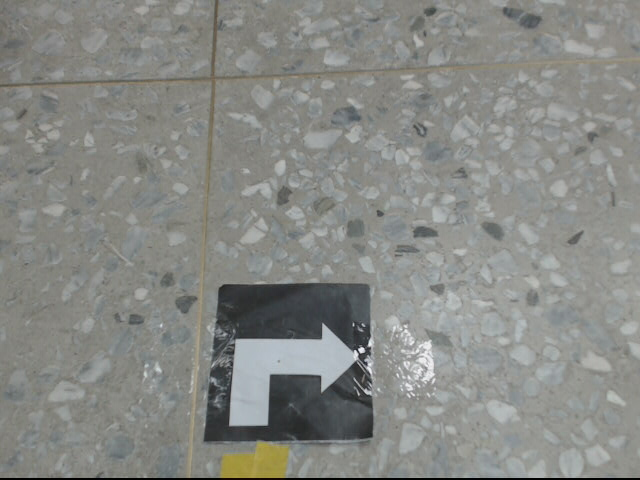right: (203, 281, 375, 441)
